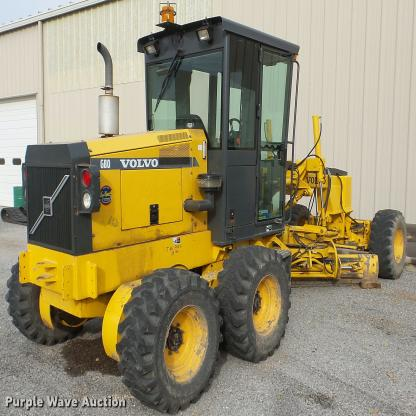bull_dozer/loader/grader: (9, 16, 416, 411)
